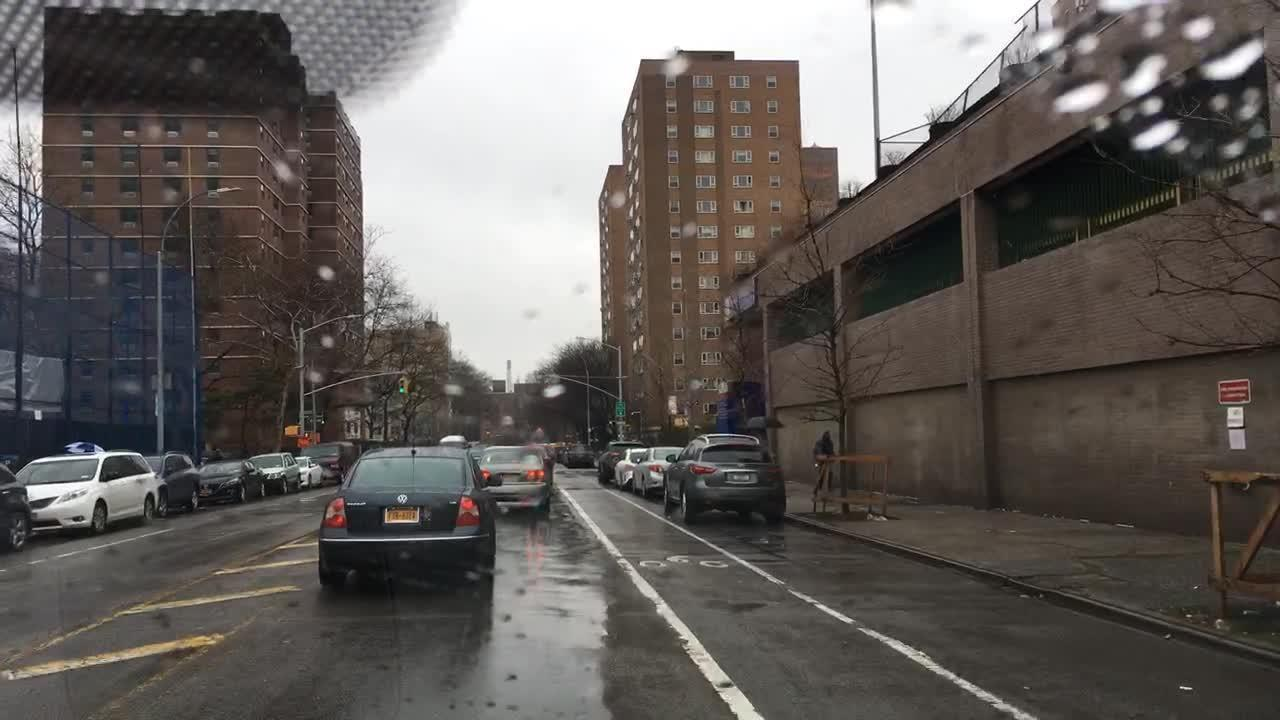Volkswagen: (396, 495, 408, 504)
